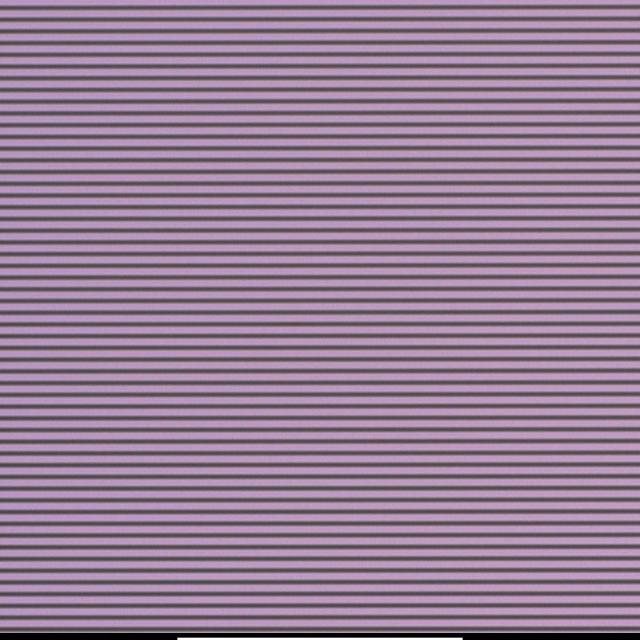nonvisual: (332, 336, 338, 346)
